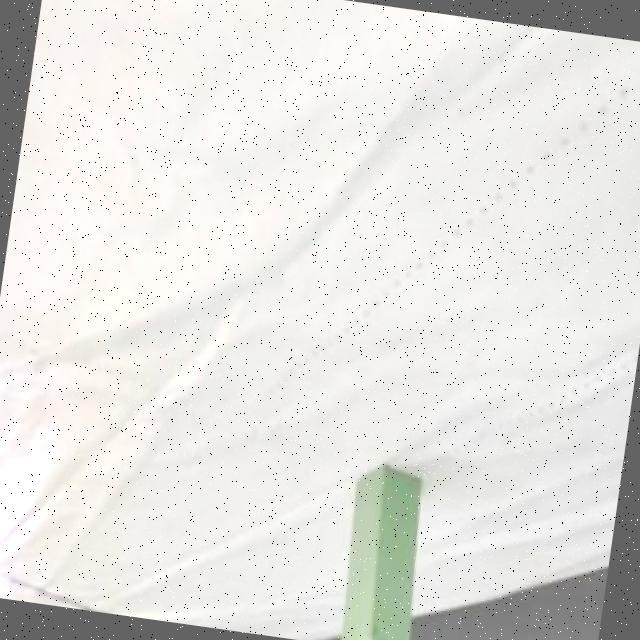greenbox: (335, 459, 434, 640)
